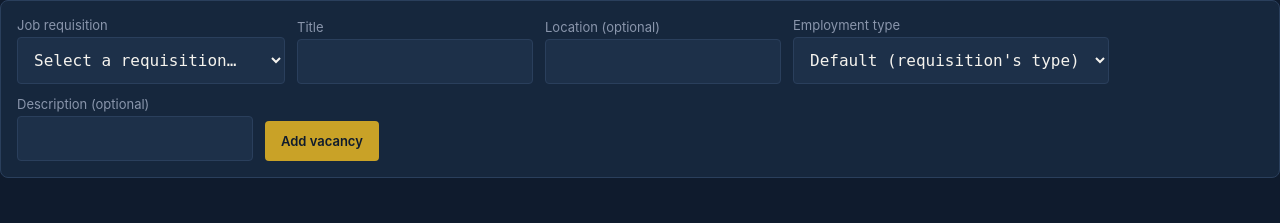
Test: CreateVacancyForm › falls back to a generic error message when the action fails without one
The width and height of the screenshot is (1280, 223).
Select "Senior Backend Engineer" in the dropdown labelled "Job requisition". click: (151, 60)
box: [17,37,285,84]
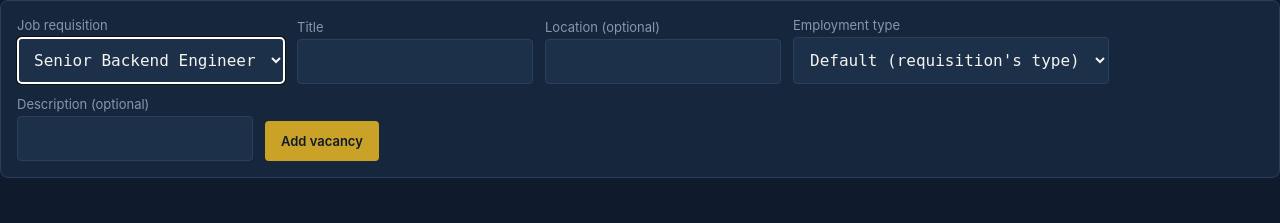
Type "Senior Backend Engineer" into the field labelled "Title". click: (415, 62)
box: [297,39,533,84]
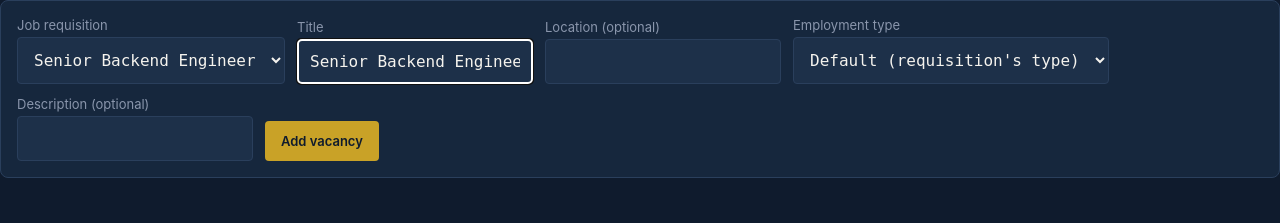
Click the button "Add vacancy". click: (322, 141)
box: [265,121,379,161]
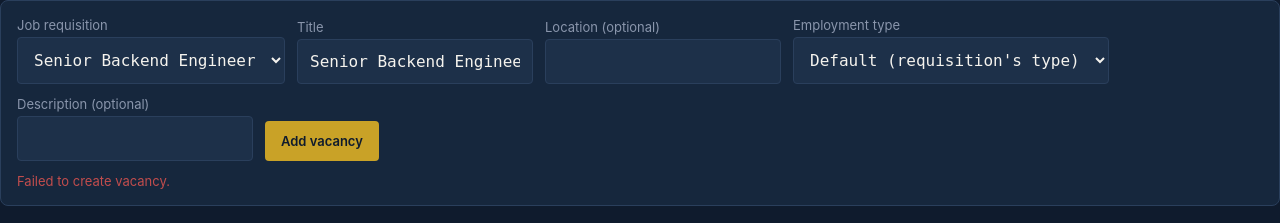
Expected: the text "Failed to create vacancy." is shown, [17,173,170,189]
